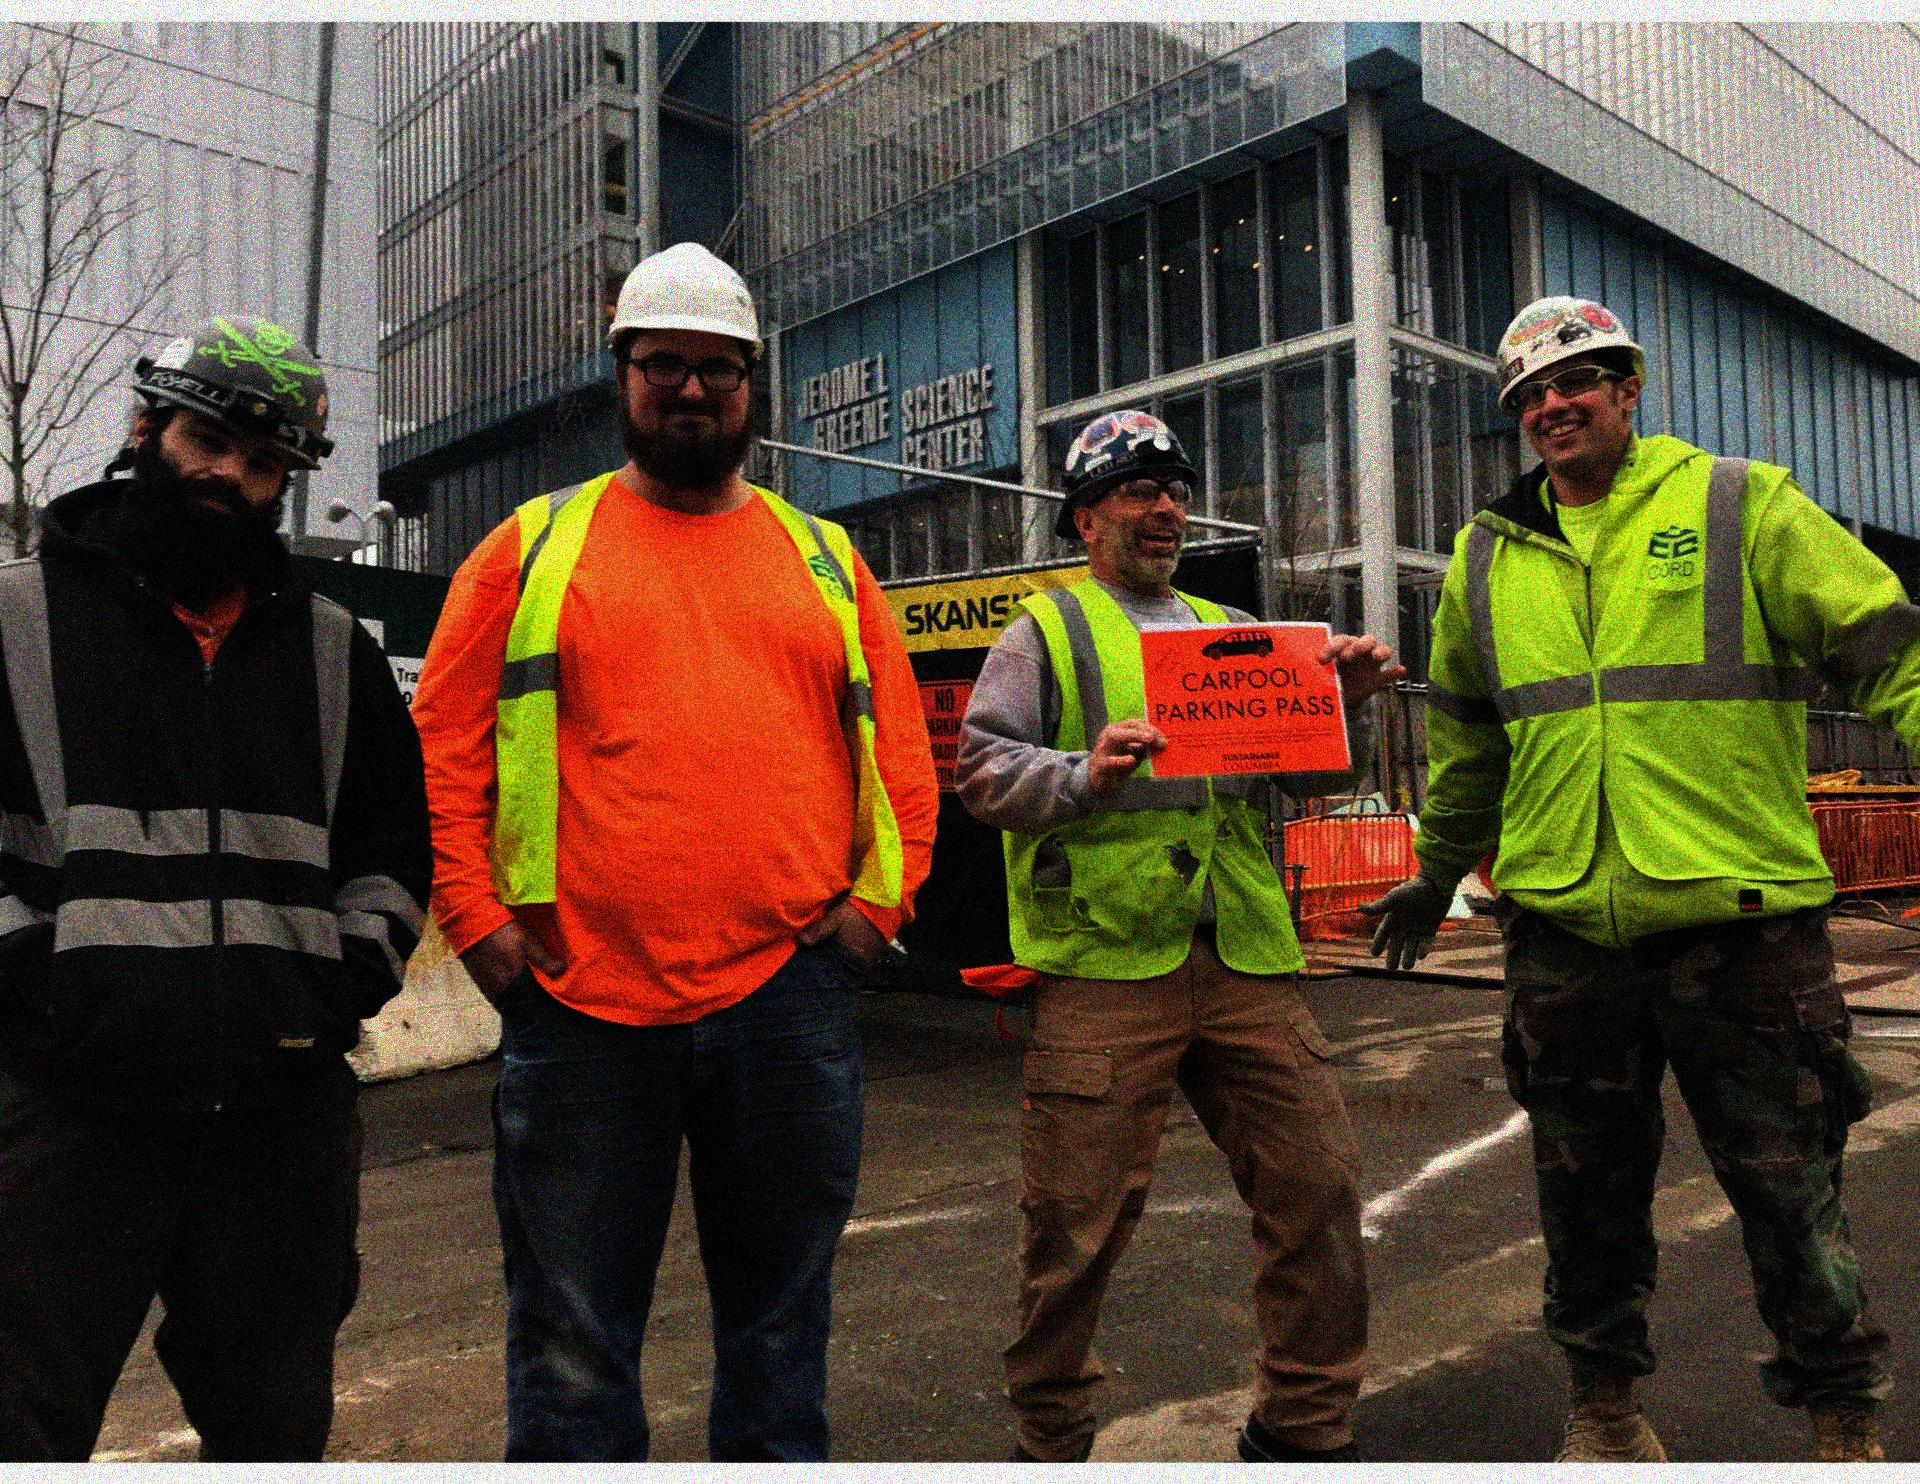helmet: (129, 312, 335, 564), (605, 238, 768, 471), (1495, 293, 1650, 469), (1058, 405, 1202, 588)
